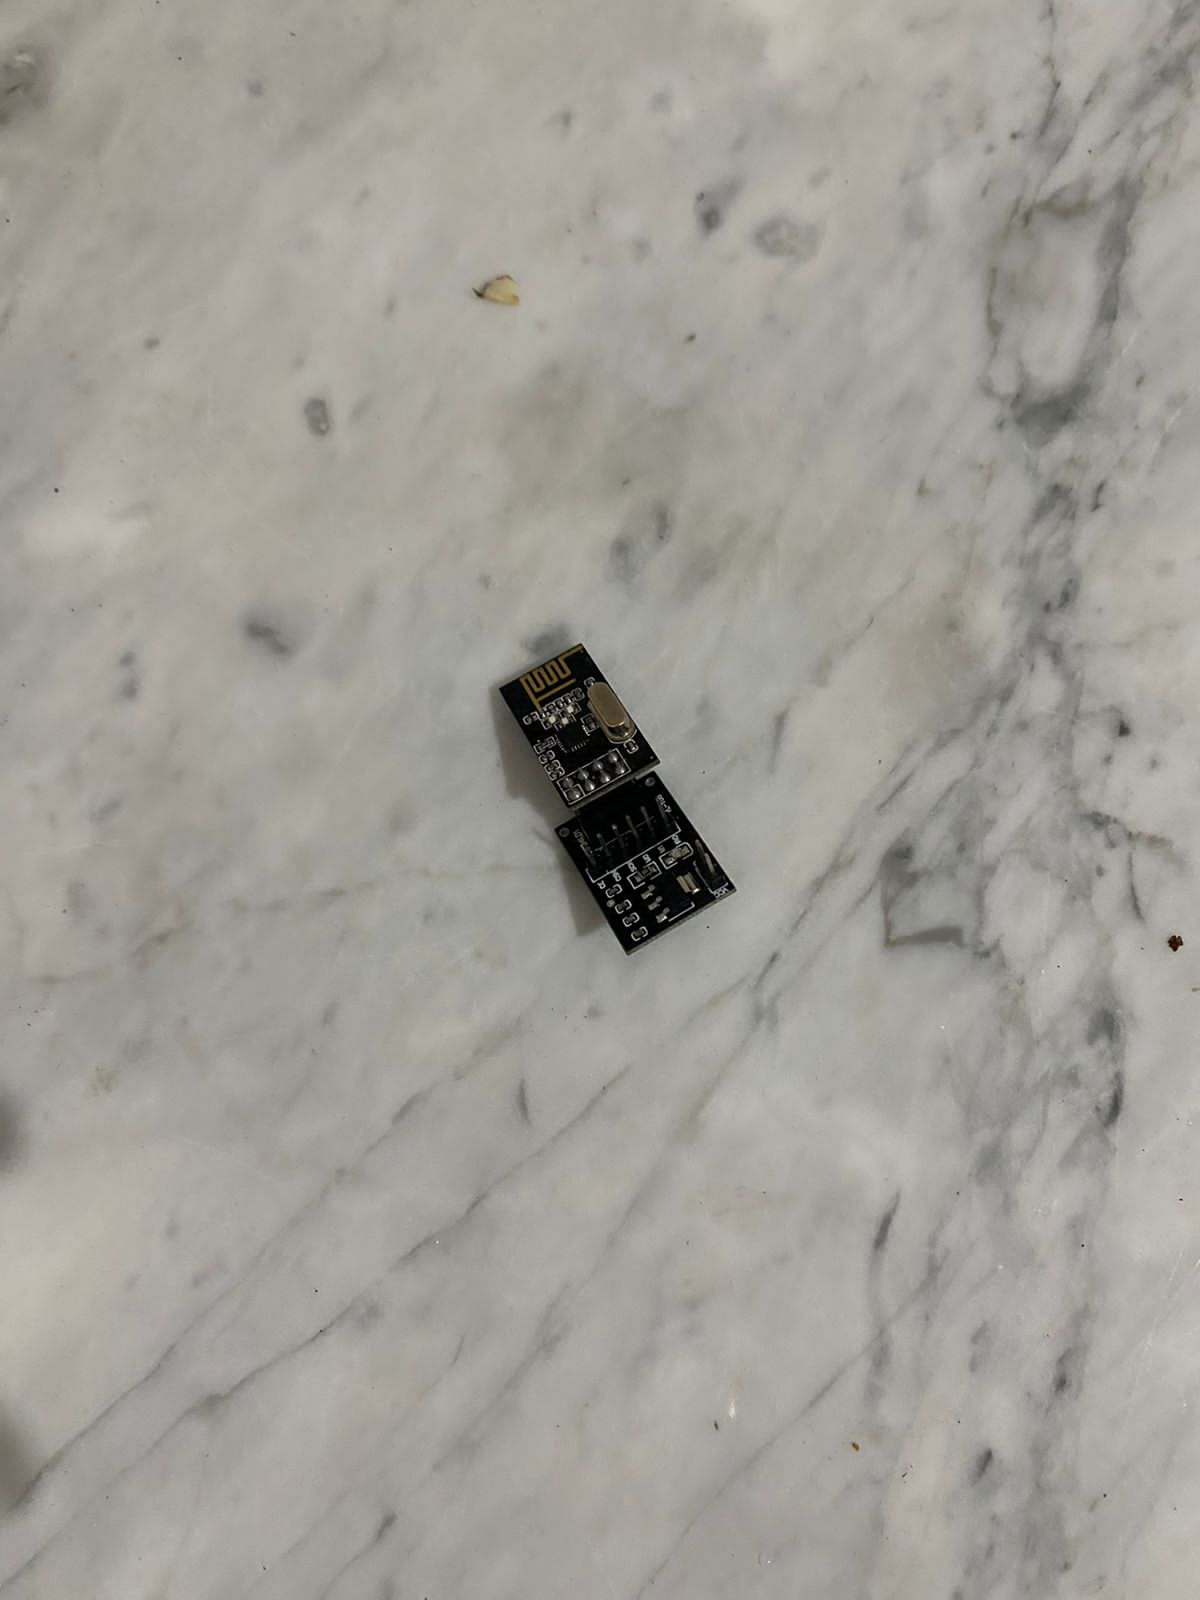RF-module: (489, 630, 742, 955)
